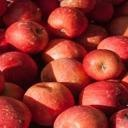apple: (52, 106, 107, 128)
